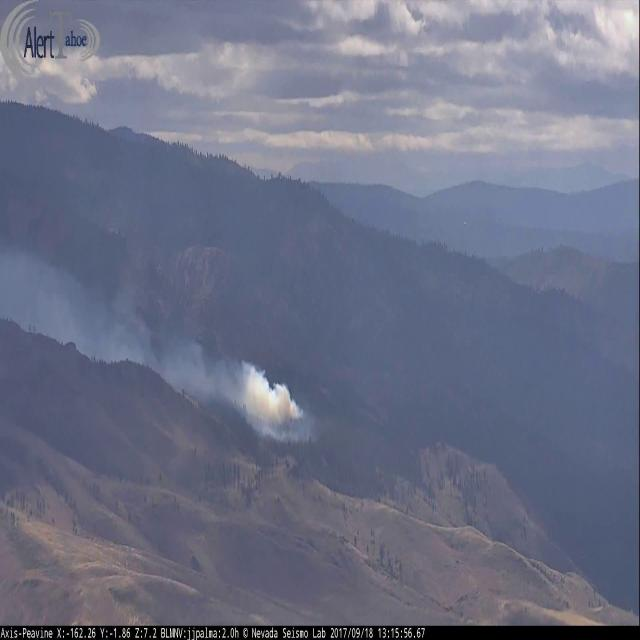smoke: (0, 212, 324, 454)
